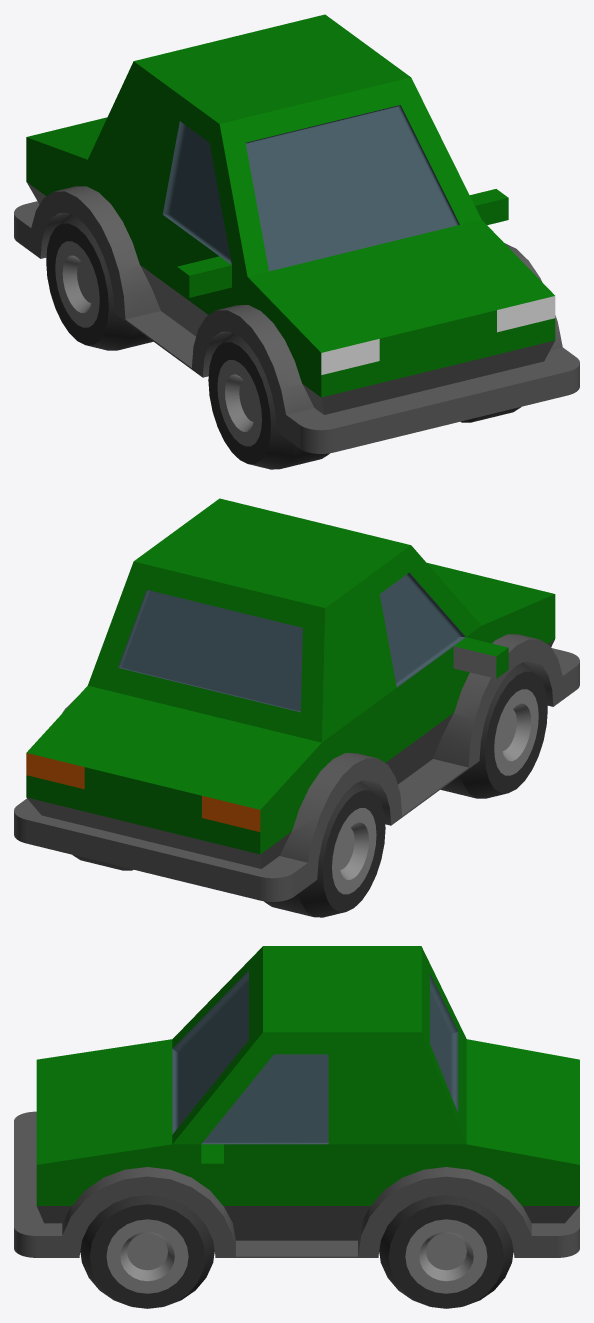
Rendered from 61 Car_1.fbx.
3 views of the same model, one above another, from view 1: azimuth 30°, elevation 25°; view 2: azimuth 150°, elevation 25°; view 3: azimuth 270°, elevation 25° (orthographic). The views are drawn at different scales.
Visible parts, largest first — view 1: Car_1; view 2: Car_1; view 3: Car_1.
Boxes of the visible parts, <box> form: Car_1: <box>14,14,579,469</box>; Car_1: <box>14,498,579,917</box>; Car_1: <box>14,946,579,1308</box>.
Bounding box in the file's own units: 33.75 × 29.25 × 56.25.
